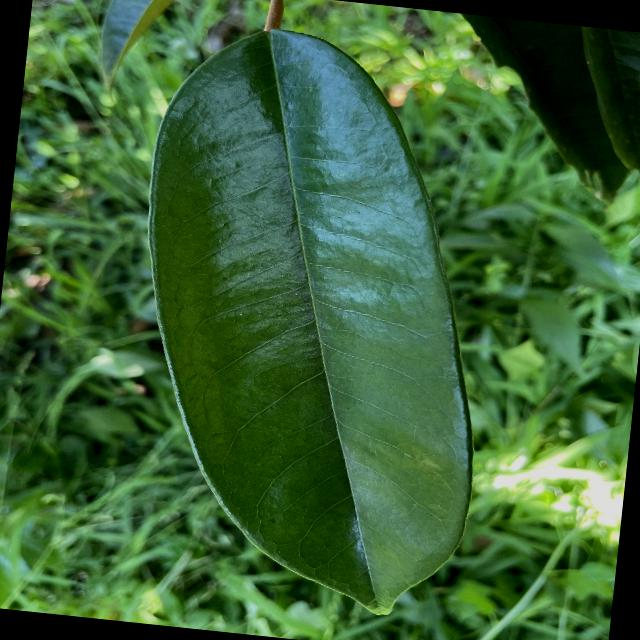No Disease: (98, 9, 526, 628)
